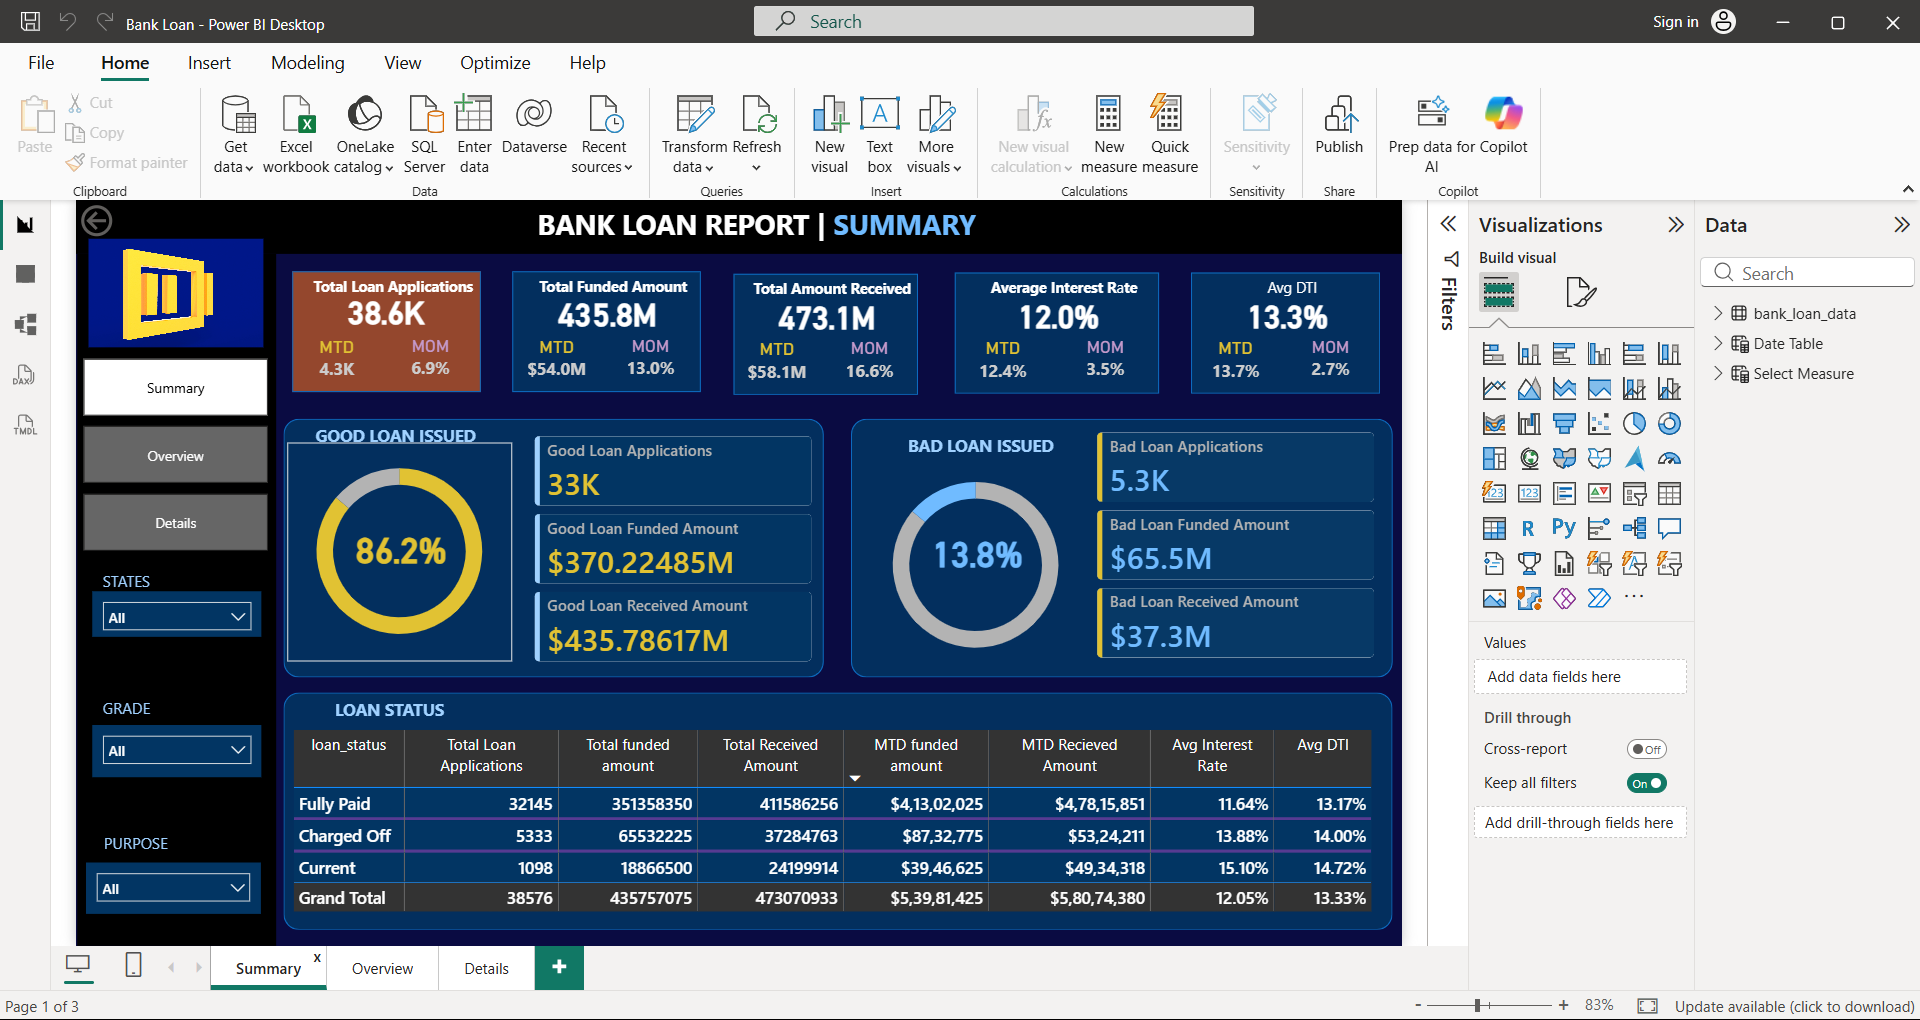

Layout of this report page (visuals, bound fields, positions):
{"tool":"powerbi","page":{"name":"Summary","canvas":[1280,720],"ordinal":0},"visuals":[{"type":"shape","box":[0,0,1280.3,52.1],"z":0},{"type":"shape","box":[208.6,68.6,182,116.6],"z":0,"group":"g1"},{"type":"shape","box":[421.6,68.6,182,116.6],"z":0,"group":"g2"},{"type":"shape","box":[848.1,70,197.2,117],"z":0,"group":"g4"},{"type":"shape","box":[1076.1,70,182.6,117],"z":0,"group":"g5"},{"type":"shape","box":[634.6,71.2,178.1,117],"z":0,"group":"g3"},{"type":"shape","box":[1.4,52.1,192.1,668.3],"z":1000},{"type":"card","fields":{"Values":["bank_loan_data.Total Loan Applications"]},"box":[234.2,75.5,130.8,63.1],"z":1000,"group":"g1"},{"type":"card","fields":{"Values":["bank_loan_data.TOTAL FUNDED AMOUNT"]},"box":[442.7,81.5,142.7,54.9],"z":1000,"group":"g2"},{"type":"card","fields":{"Values":["bank_loan_data.AVG INTEREST RATE"]},"box":[871,82.9,154.6,55.1],"z":1000,"group":"g4"},{"type":"card","fields":{"Values":["bank_loan_data.Total Funded Amount"]},"box":[1097.3,82.9,143.1,55.1],"z":1000,"group":"g5"},{"type":"card","fields":{"Values":["bank_loan_data.TOTAL RECIEVED AMOUNT"]},"box":[655.2,84.1,139.6,55.1],"z":1000,"group":"g3"},{"type":"textbox","box":[208.6,68.6,194.9,38.4],"z":2000,"group":"g1"},{"type":"textbox","box":[421.6,68.6,194.9,38.4],"z":2000,"group":"g2"},{"type":"textbox","box":[848.1,70,211.1,38.5],"z":2000,"group":"g4"},{"type":"textbox","box":[1076.1,70,195.4,38.5],"z":2000,"group":"g5"},{"type":"textbox","box":[634.6,71.2,190.6,38.5],"z":2000,"group":"g3"},{"type":"shape","box":[200.3,211.3,521.4,249.7],"z":2000},{"type":"card","title":"MTD","fields":{"Values":["bank_loan_data.MTD LOAN APPLICATIONS"]},"box":[208.6,131.7,85.9,45.3],"z":3000,"group":"g1"},{"type":"card","title":"MTD","fields":{"Values":["bank_loan_data.MTD FUNDED AMOUNT"]},"box":[421.6,131.7,85.9,45.3],"z":3000,"group":"g2"},{"type":"card","title":"MTD","fields":{"Values":["bank_loan_data.MTD AVG INT RATE"]},"box":[848.1,133.3,93.1,45.4],"z":3000,"group":"g4"},{"type":"card","title":"MTD","fields":{"Values":["bank_loan_data.MTD AVG DTI"]},"box":[1076.1,133.3,86.1,45.4],"z":3000,"group":"g5"},{"type":"card","title":"MTD","fields":{"Values":["bank_loan_data.MTD TOTAL Recieved  AMOUNT"]},"box":[634.6,134.5,84,45.4],"z":3000,"group":"g3"},{"type":"donutChart","fields":{"Category":["bank_loan_data.GOOD VS BAD LOAN"],"Y":["bank_loan_data.Total Loan Applications"]},"box":[204.5,234.6,216.8,209.9],"z":3000},{"type":"card","title":"MOM","fields":{"Values":["bank_loan_data.MOM LOAN APPLICATIONS"]},"box":[299.6,130.3,85.9,45.3],"z":4000,"group":"g1"},{"type":"card","title":"MOM","fields":{"Values":["bank_loan_data.MOM FUNDED AMOUNT"]},"box":[512.6,130.3,85.9,45.3],"z":4000,"group":"g2"},{"type":"card","title":"MOM","fields":{"Values":["bank_loan_data.MOM AVG INT T"]},"box":[946.7,132,93.1,45.4],"z":4000,"group":"g4"},{"type":"card","title":"MOM","fields":{"Values":["bank_loan_data.MOM AVG DTI"]},"box":[1167.4,132,86.1,45.4],"z":4000,"group":"g5"},{"type":"card","title":"MOM","fields":{"Values":["bank_loan_data.MOM received AMOUNT"]},"box":[723.6,133.2,84,45.4],"z":4000,"group":"g3"},{"type":"card","fields":{"Values":["bank_loan_data.Good Loan %"]},"box":[242.9,308.7,142.7,54.9],"z":4000},{"type":"textbox","box":[31.6,211.3,554.4,65.9],"z":5000},{"type":"textbox","box":[440.5,0,481.6,52.1],"z":6000},{"type":"group","id":"g1","title":"Group 1","box":[208.6,68.6,194.9,116.6],"z":7000},{"type":"group","id":"g2","title":"Group 1","box":[421.6,68.6,194.9,116.6],"z":8000},{"type":"group","id":"g3","title":"Group 1","box":[634.6,71.2,190.6,117],"z":9000},{"type":"group","id":"g4","title":"Group 1","box":[848.1,70,211.1,117],"z":10000},{"type":"group","id":"g5","title":"Group 1","box":[1076.1,70,194.2,117],"z":11000},{"type":"shape","box":[747.9,211.3,522.8,249.7],"z":12000},{"type":"actionButton","box":[0,0,100,40],"z":13000},{"type":"cardVisual","fields":{"Data":["bank_loan_data.GOOD LOAN Applications","bank_loan_data.GOOD LOAN FUNDED AMOUNT","bank_loan_data.GOOD LOAN Recieved AMOUNT"]},"box":[425.4,211.3,301.9,253.9],"z":14000},{"type":"donutChart","fields":{"Category":["bank_loan_data.GOOD VS BAD LOAN"],"Y":["bank_loan_data.Total Loan Applications"]},"box":[760.2,247,216.8,209.9],"z":15000},{"type":"card","fields":{"Values":["bank_loan_data.Bad Loan %"]},"box":[798.6,312.9,142.7,54.9],"z":16000},{"type":"shape","box":[200.3,474.8,1070.3,229.2],"z":17000},{"type":"cardVisual","fields":{"Data":["bank_loan_data.Bad Loan Applications","bank_loan_data.Bad Loan Funded Amount","bank_loan_data.Bad Loan Received Amount"]},"box":[968.8,207.2,301.9,253.9],"z":18000},{"type":"tableEx","fields":{"Values":["bank_loan_data.loan_status","bank_loan_data.Total Loan Applications","bank_loan_data.TOTAL FUNDED AMOUNT","bank_loan_data.TOTAL RECIEVED AMOUNT","bank_loan_data.MTD TOTAL funded amount AMOUNT","bank_loan_data.MTD TOTAL Recieved  AMOUNT","bank_loan_data.AVG INTEREST RATE","bank_loan_data.AVG DTI"]},"box":[204.5,506.3,1066.2,197.6],"z":19000},{"type":"textbox","box":[465.2,220.9,815.1,71.4],"z":20000},{"type":"textbox","box":[9.6,474.8,585.9,31.6],"z":21000},{"type":"slicer","fields":{"Values":["bank_loan_data.address_state"]},"box":[15.1,377.4,163.3,43.9],"z":22000},{"type":"textbox","box":[0,352.7,97.4,46.7],"z":23000},{"type":"textbox","box":[1.2,475.3,95.3,31.4],"z":24000},{"type":"slicer","fields":{"Values":["bank_loan_data.grade"]},"box":[15.1,506.3,163.3,50.8],"z":25000},{"type":"slicer","fields":{"Values":["bank_loan_data.purpose"]},"box":[9.6,639.5,168.8,49.4],"z":26000},{"type":"textbox","box":[15.7,605.6,84.5,49.5],"z":27000},{"type":"pageNavigator","box":[6.9,153.7,178.4,186.6],"z":28000},{"type":"image","box":[12.1,37.4,168.9,105],"z":29000}]}

Visuals, with their boxes on the page's 1280x720 design canvas (x1, y1, x2, y2). These are canvas units, not pixel positions in the 1920x1020 screenshot, which may show the page scaled, cropped or inside an application window:
shape: bbox=[0, 0, 1280, 52]
shape: bbox=[209, 69, 391, 185]
shape: bbox=[422, 69, 604, 185]
shape: bbox=[848, 70, 1045, 187]
shape: bbox=[1076, 70, 1259, 187]
shape: bbox=[635, 71, 813, 188]
shape: bbox=[1, 52, 194, 720]
card - bank_loan_data.Total Loan Applications: bbox=[234, 76, 365, 139]
card - bank_loan_data.TOTAL FUNDED AMOUNT: bbox=[443, 82, 585, 136]
card - bank_loan_data.AVG INTEREST RATE: bbox=[871, 83, 1026, 138]
card - bank_loan_data.Total Funded Amount: bbox=[1097, 83, 1240, 138]
card - bank_loan_data.TOTAL RECIEVED AMOUNT: bbox=[655, 84, 795, 139]
textbox: bbox=[209, 69, 404, 107]
textbox: bbox=[422, 69, 616, 107]
textbox: bbox=[848, 70, 1059, 108]
textbox: bbox=[1076, 70, 1272, 108]
textbox: bbox=[635, 71, 825, 110]
shape: bbox=[200, 211, 722, 461]
"MTD" card: bbox=[209, 132, 294, 177]
"MTD" card: bbox=[422, 132, 508, 177]
"MTD" card: bbox=[848, 133, 941, 179]
"MTD" card: bbox=[1076, 133, 1162, 179]
"MTD" card: bbox=[635, 134, 719, 180]
donutChart - bank_loan_data.GOOD VS BAD LOAN x bank_loan_data.Total Loan Applications: bbox=[204, 235, 421, 444]
"MOM" card: bbox=[300, 130, 386, 176]
"MOM" card: bbox=[513, 130, 598, 176]
"MOM" card: bbox=[947, 132, 1040, 177]
"MOM" card: bbox=[1167, 132, 1254, 177]
"MOM" card: bbox=[724, 133, 808, 179]
card - bank_loan_data.Good Loan %: bbox=[243, 309, 386, 364]
textbox: bbox=[32, 211, 586, 277]
textbox: bbox=[440, 0, 922, 52]
"Group 1" group: bbox=[209, 69, 404, 185]
"Group 1" group: bbox=[422, 69, 616, 185]
"Group 1" group: bbox=[635, 71, 825, 188]
"Group 1" group: bbox=[848, 70, 1059, 187]
"Group 1" group: bbox=[1076, 70, 1270, 187]
shape: bbox=[748, 211, 1271, 461]
actionButton: bbox=[0, 0, 100, 40]
cardVisual - bank_loan_data.GOOD LOAN Applications x bank_loan_data.GOOD LOAN FUNDED AMOUNT: bbox=[425, 211, 727, 465]
donutChart - bank_loan_data.GOOD VS BAD LOAN x bank_loan_data.Total Loan Applications: bbox=[760, 247, 977, 457]
card - bank_loan_data.Bad Loan %: bbox=[799, 313, 941, 368]
shape: bbox=[200, 475, 1271, 704]
cardVisual - bank_loan_data.Bad Loan Applications x bank_loan_data.Bad Loan Funded Amount: bbox=[969, 207, 1271, 461]
tableEx - bank_loan_data.loan_status x bank_loan_data.Total Loan Applications: bbox=[204, 506, 1271, 704]
textbox: bbox=[465, 221, 1280, 292]
textbox: bbox=[10, 475, 596, 506]
slicer - bank_loan_data.address_state: bbox=[15, 377, 178, 421]
textbox: bbox=[0, 353, 97, 399]
textbox: bbox=[1, 475, 96, 507]
slicer - bank_loan_data.grade: bbox=[15, 506, 178, 557]
slicer - bank_loan_data.purpose: bbox=[10, 640, 178, 689]
textbox: bbox=[16, 606, 100, 655]
pageNavigator: bbox=[7, 154, 185, 340]
image: bbox=[12, 37, 181, 142]
